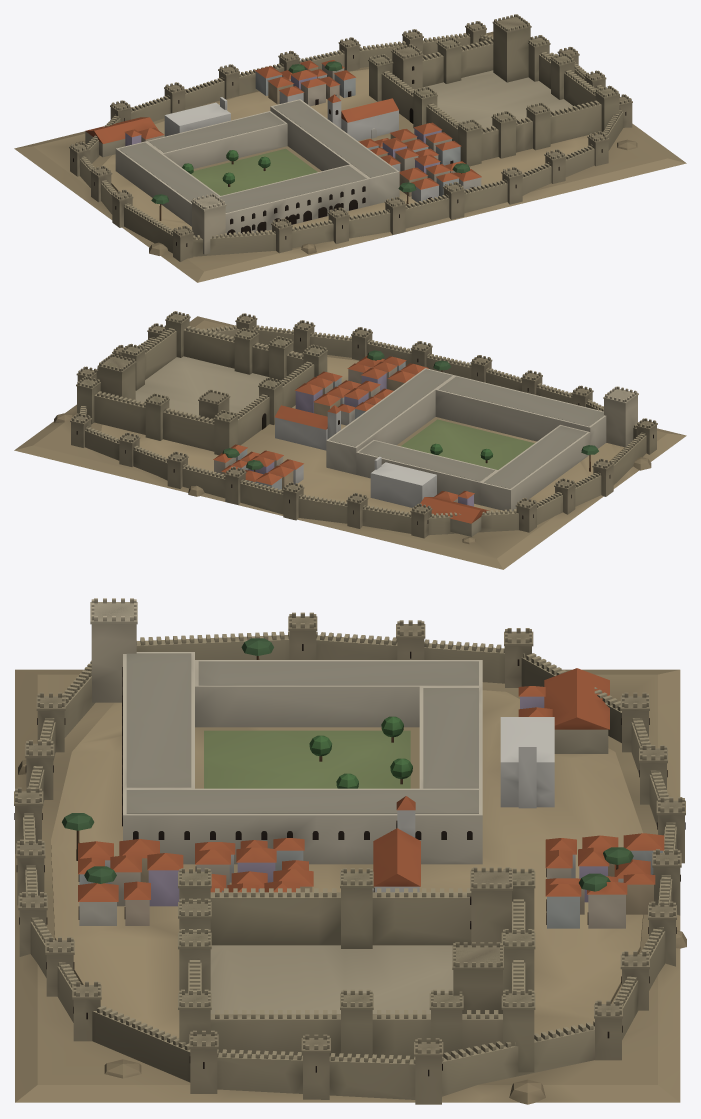
File: castelo-1800.glb
3 views of the same model, one above another, from view 1: azimuth 30°, elevation 25°; view 2: azimuth 150°, elevation 25°; view 3: azimuth 270°, elevation 25° (orthographic). The views are drawn at different scales.
Visible parts, largest first — view 1: p2_castle, p1_walls, p0_hill; view 2: p2_castle, p1_walls, p0_hill; view 3: p2_castle, p0_hill, p1_walls.
Part boxes in pixels (bbox=[...]): p2_castle: bbox=[85, 14, 619, 254]; p1_walls: bbox=[69, 21, 632, 261]; p0_hill: bbox=[14, 31, 686, 282]; p2_castle: bbox=[76, 311, 638, 536]; p1_walls: bbox=[70, 313, 657, 538]; p0_hill: bbox=[14, 316, 686, 569]; p2_castle: bbox=[62, 598, 633, 1072]; p0_hill: bbox=[15, 669, 686, 1104]; p1_walls: bbox=[14, 612, 685, 1104].
Bounding box in the file's own units: 232 × 26.6 × 150.
